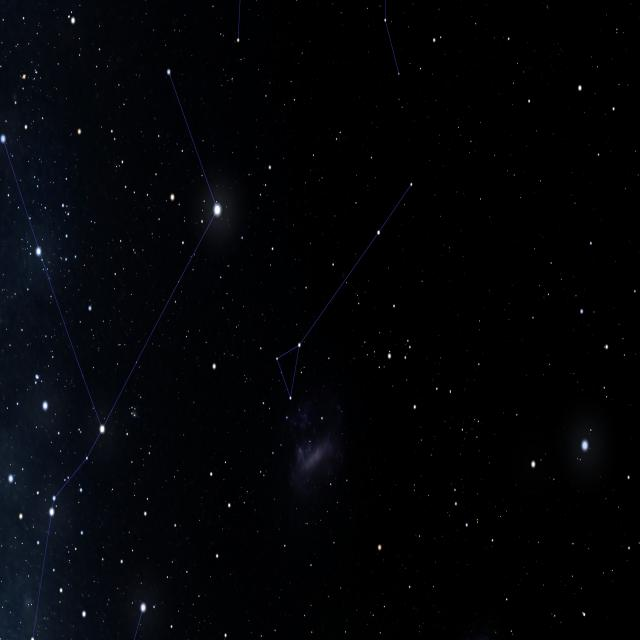Dorado: (269, 136, 442, 469)
